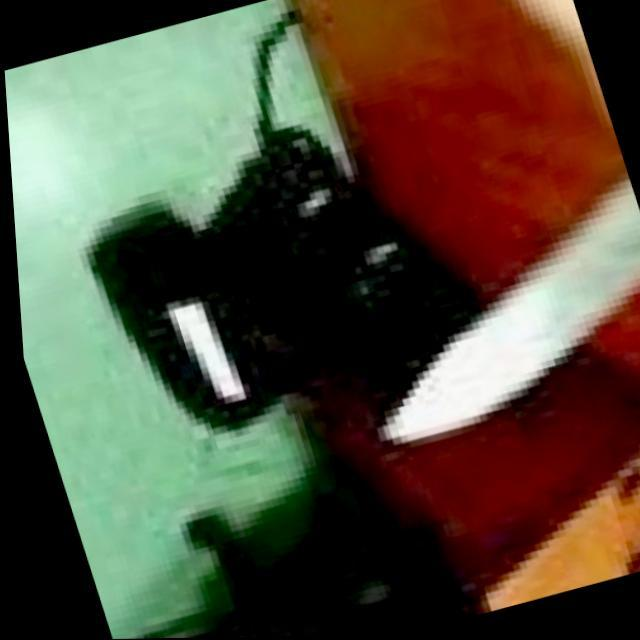knife: (305, 160, 640, 456)
